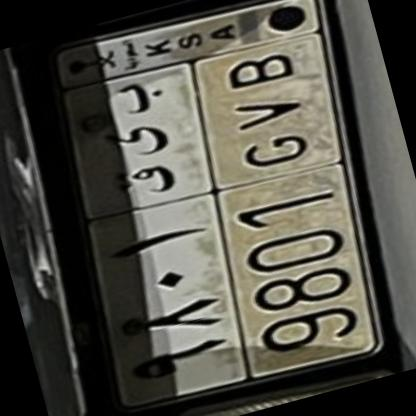english: (175, 24, 410, 390)
